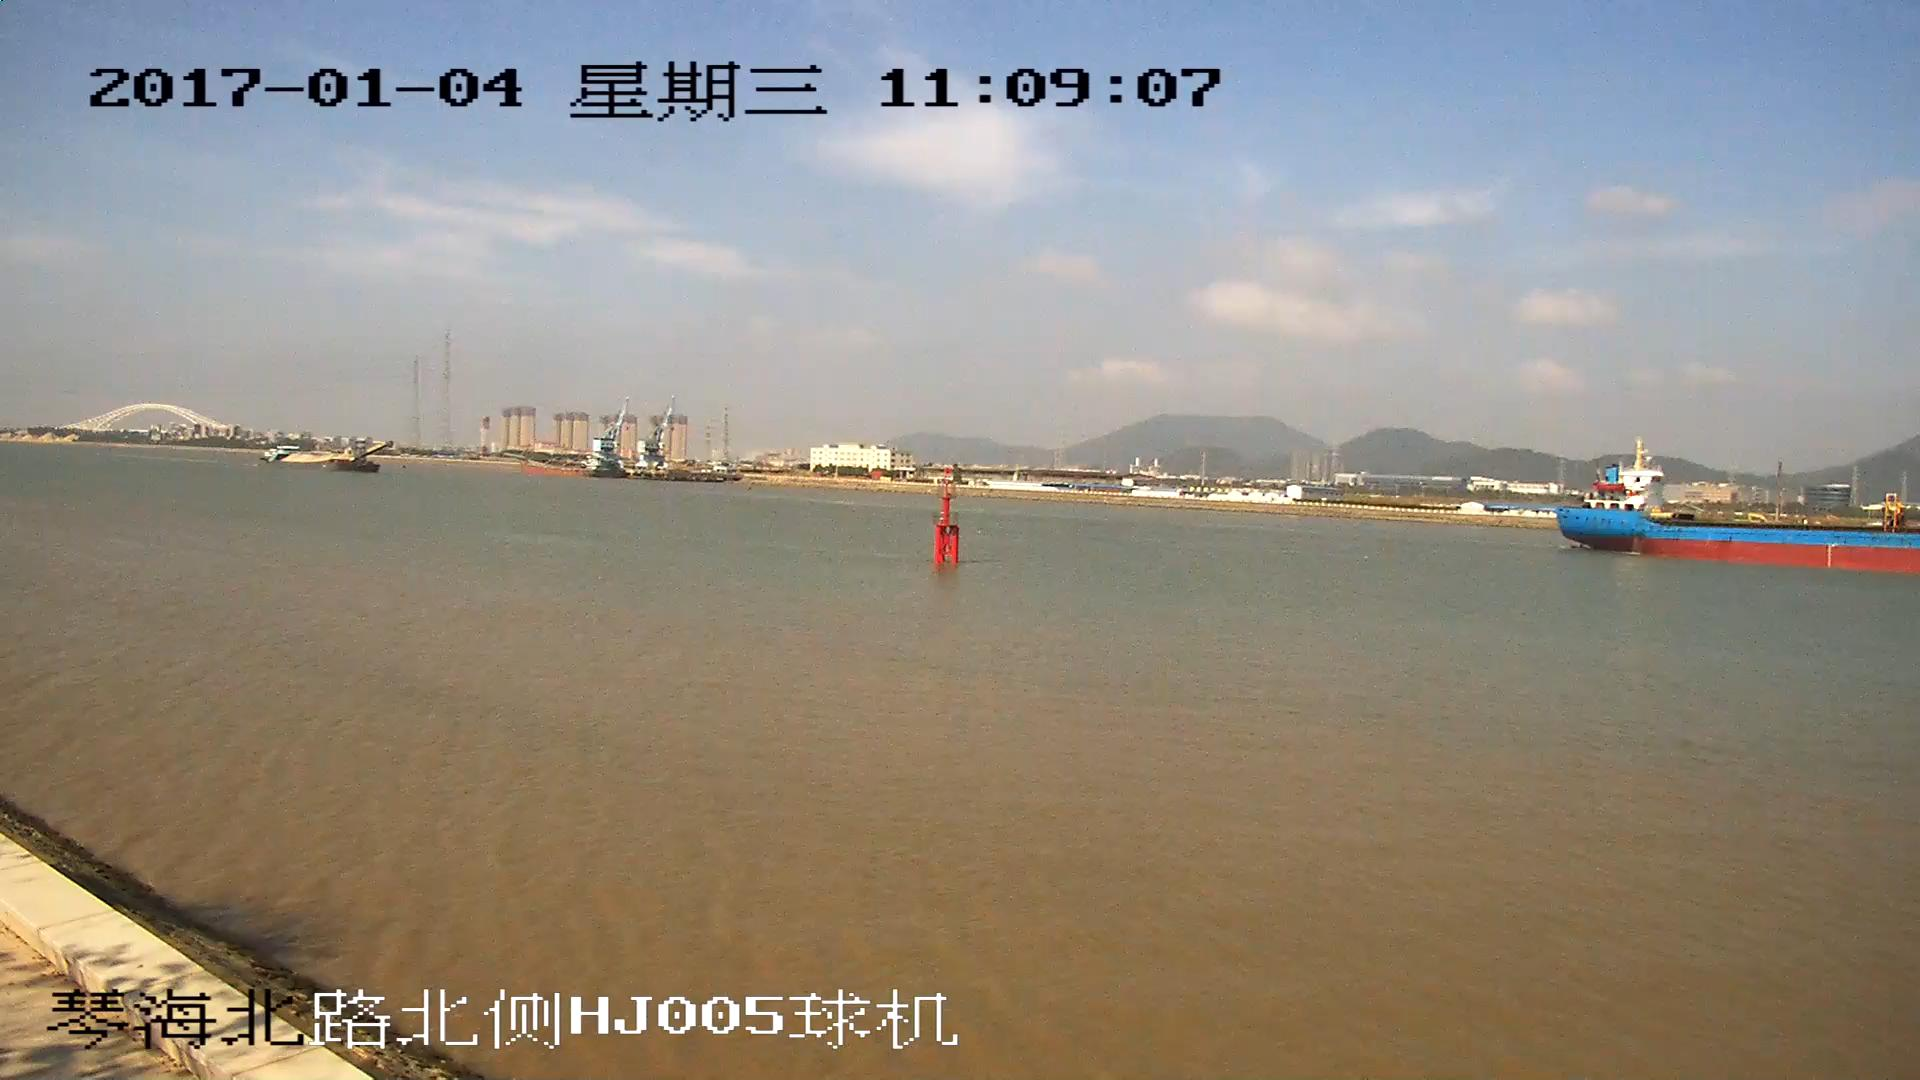general cargo ship: (1554, 440, 1920, 577)
